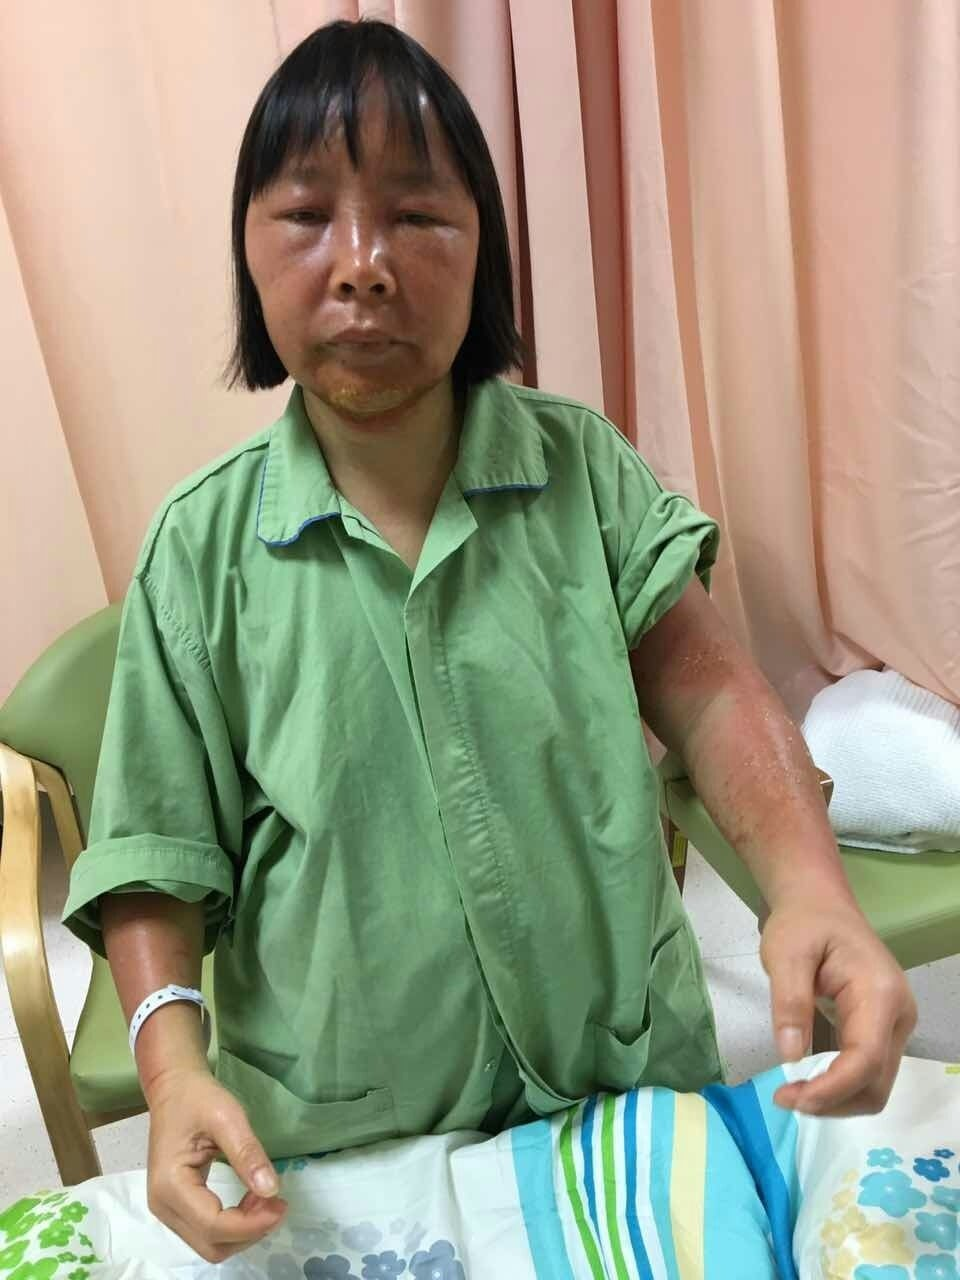face_no_mask: (233, 20, 518, 414)
